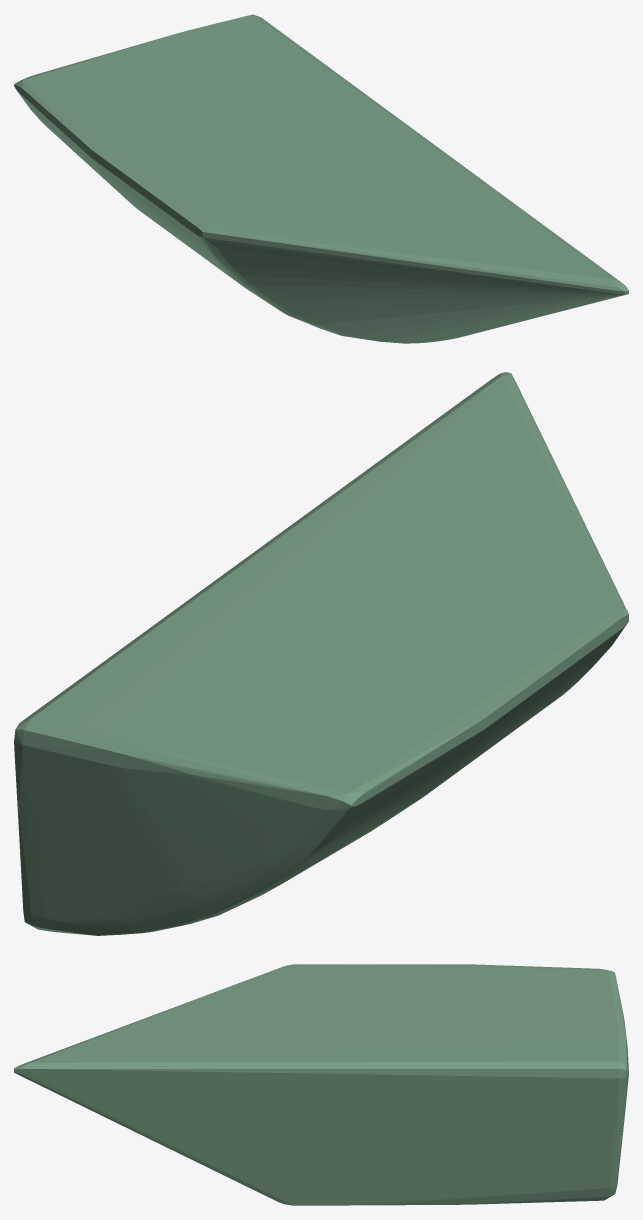
File: left-hip-pitch-0_part_0.obj
3 renders of one model, top to bottom at view 1: azimuth 30°, elevation 25°; view 2: azimuth 150°, elevation 25°; view 3: azimuth 270°, elevation 25°, orthographic. The views are drawn at different scales.
Bounding box in the file's own units: 0.0565 × 0.0359 × 0.1386.
